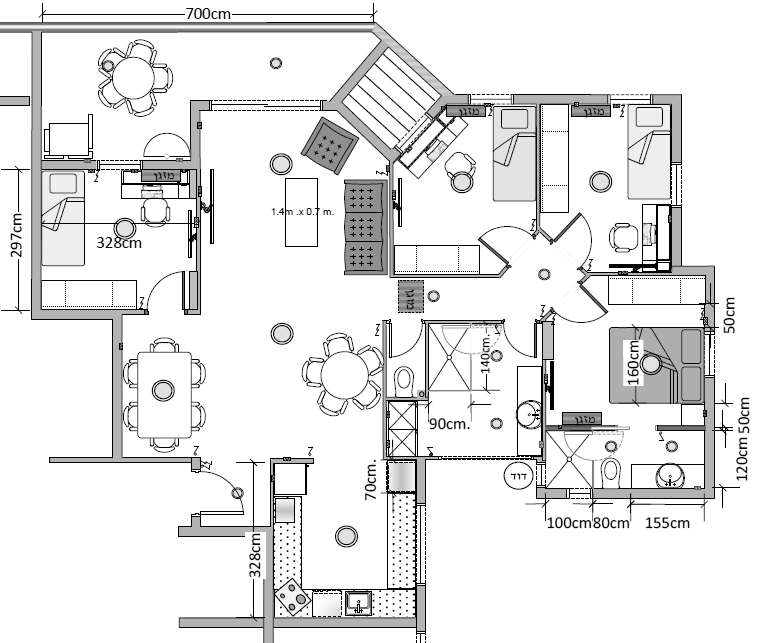door: (471, 212, 536, 264), (554, 211, 609, 267), (189, 466, 244, 522), (551, 279, 606, 335), (146, 271, 189, 308), (500, 322, 539, 358)
room: (544, 267, 714, 500), (533, 93, 681, 276), (30, 161, 200, 316)
wall: (31, 23, 42, 321), (179, 616, 426, 627), (112, 309, 122, 463), (670, 93, 681, 163), (704, 265, 716, 327)
window: (208, 100, 322, 112), (562, 484, 596, 502), (467, 93, 513, 106), (670, 162, 682, 207), (704, 327, 714, 377), (606, 94, 654, 104)
